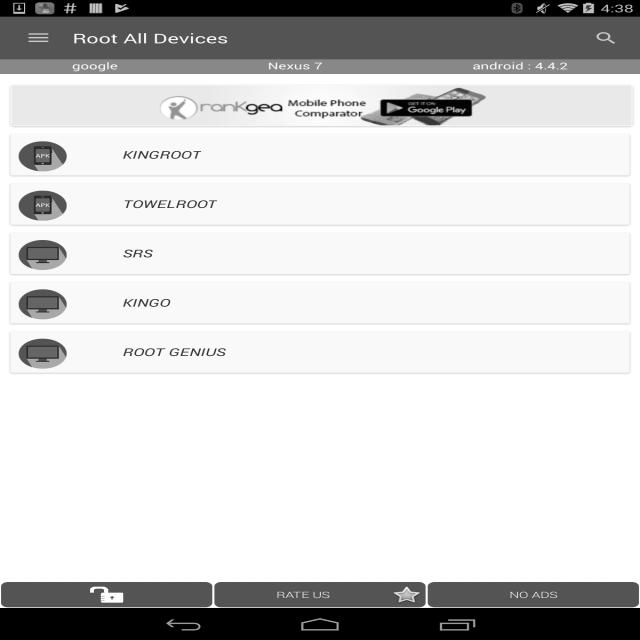Button: (214, 582, 426, 607), (1, 582, 212, 607), (428, 582, 639, 607)
ImageButton: (9, 19, 68, 57)
ImageView: (12, 85, 631, 131), (580, 22, 632, 54), (17, 142, 68, 172), (17, 190, 68, 220), (17, 240, 68, 270), (17, 290, 68, 320), (17, 338, 68, 368)
ProgressBar: (0, 74, 640, 85)
TextView: (122, 333, 225, 371), (123, 185, 217, 223), (400, 59, 640, 72), (123, 136, 201, 173), (73, 29, 228, 47), (195, 59, 395, 72), (0, 59, 190, 72), (123, 284, 170, 321), (122, 235, 152, 272)
